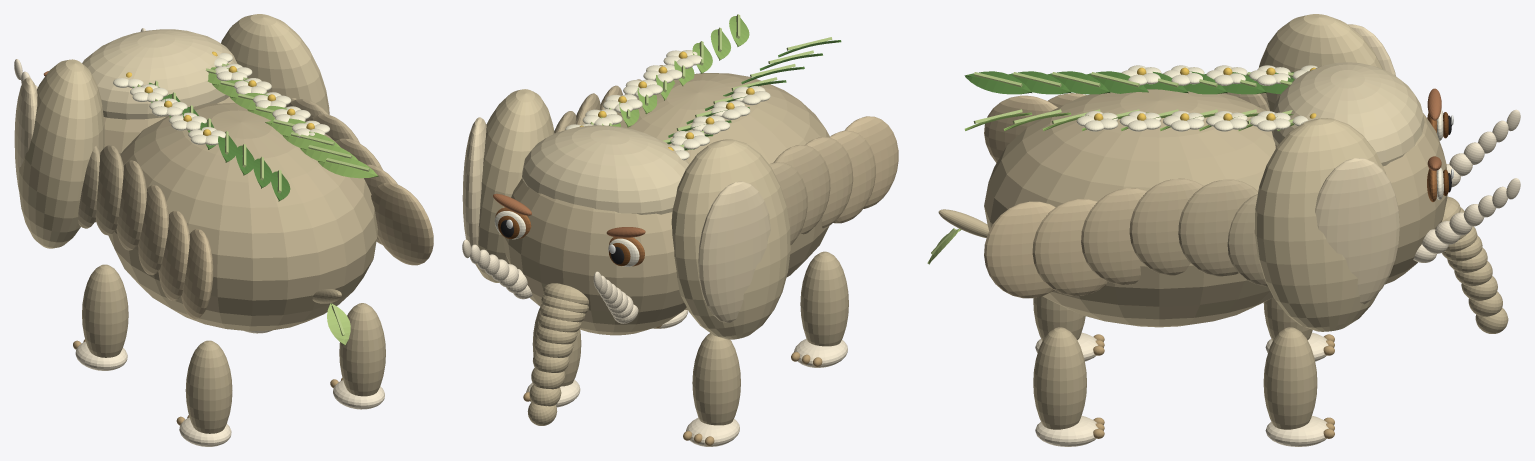
File: RockElephant_A_S9.obj
3 renders of one model, left to right at view 1: azimuth 30°, elevation 25°; view 2: azimuth 150°, elevation 25°; view 3: azimuth 270°, elevation 25°, orthographic. The views are drawn at different scales.
Parts seen in each view (by area): view 1: Body, LeftEar, Forehead, RightEar, StonePlate_11, LeftFrontLeg, LeftBackLeg, RightBackLeg, StonePlate_10, StonePlate_4, StonePlate_6, StonePlate_2 (+14 smaller); view 2: Head, LeftEar, Forehead, Body, LeftEarInner, RightEar, LeftBackLeg, LeftFrontLeg, StonePlate_4, StonePlate_10, RightEarInner, StonePlate_8 (+16 smaller); view 3: Body, RightEar, Forehead, RightEarInner, Head, LeftEar, StonePlate_3, StonePlate_9, StonePlate_11, RightBackLeg, RightFrontLeg, StonePlate_5 (+13 smaller).
Part boxes in pixels (bbox=[...]): Body: bbox=[108, 103, 377, 331]; LeftEar: bbox=[18, 59, 104, 248]; Forehead: bbox=[82, 29, 237, 119]; RightEar: bbox=[221, 14, 329, 114]; StonePlate_11: bbox=[371, 183, 433, 265]; LeftFrontLeg: bbox=[82, 264, 128, 357]; LeftBackLeg: bbox=[185, 340, 232, 433]; RightBackLeg: bbox=[339, 303, 385, 396]; StonePlate_10: bbox=[181, 229, 213, 319]; StonePlate_4: bbox=[116, 160, 147, 250]; StonePlate_6: bbox=[138, 184, 168, 275]; StonePlate_2: bbox=[95, 145, 123, 235]; Head: bbox=[503, 178, 686, 335]; LeftEar: bbox=[671, 139, 790, 339]; Forehead: bbox=[522, 125, 689, 214]; Body: bbox=[605, 73, 829, 309]; LeftEarInner: bbox=[698, 181, 770, 322]; RightEar: bbox=[475, 89, 554, 282]; LeftBackLeg: bbox=[800, 251, 848, 346]; LeftFrontLeg: bbox=[692, 333, 740, 425]; StonePlate_4: bbox=[773, 145, 830, 234]; StonePlate_10: bbox=[844, 116, 898, 208]; RightEarInner: bbox=[462, 117, 486, 246]; StonePlate_8: bbox=[829, 130, 875, 223]; Body: bbox=[984, 89, 1275, 327]; RightEar: bbox=[1254, 118, 1386, 331]; Forehead: bbox=[1271, 62, 1424, 166]; RightEarInner: bbox=[1315, 158, 1399, 304]; Head: bbox=[1275, 113, 1447, 284]; LeftEar: bbox=[1259, 14, 1382, 111]; StonePlate_3: bbox=[1178, 179, 1258, 276]; StonePlate_9: bbox=[1032, 199, 1107, 295]; StonePlate_11: bbox=[984, 201, 1055, 298]; RightBackLeg: bbox=[1033, 327, 1086, 429]; RightFrontLeg: bbox=[1263, 327, 1317, 429]; StonePlate_5: bbox=[1129, 178, 1203, 275].
Size of the model in its own units: 22.85 by 22.46 by 36.33.
